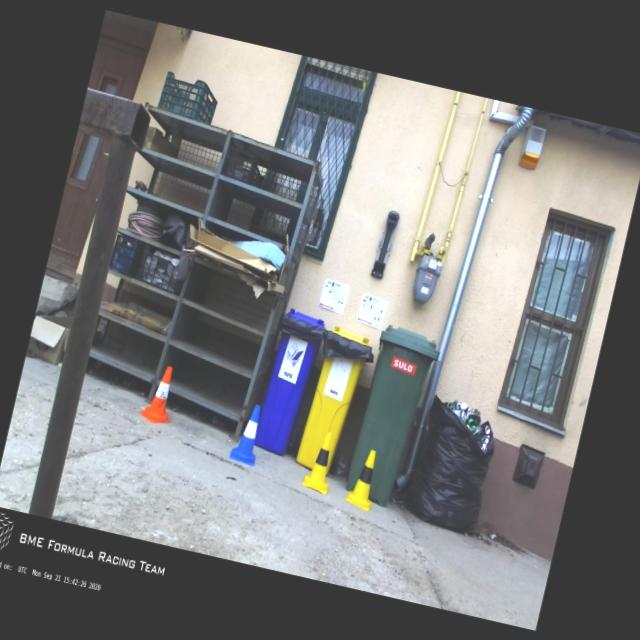blue_cone: (228, 402, 267, 466)
orange_cone: (138, 362, 182, 427)
yellow_cone: (300, 428, 340, 494), (344, 446, 382, 510)
